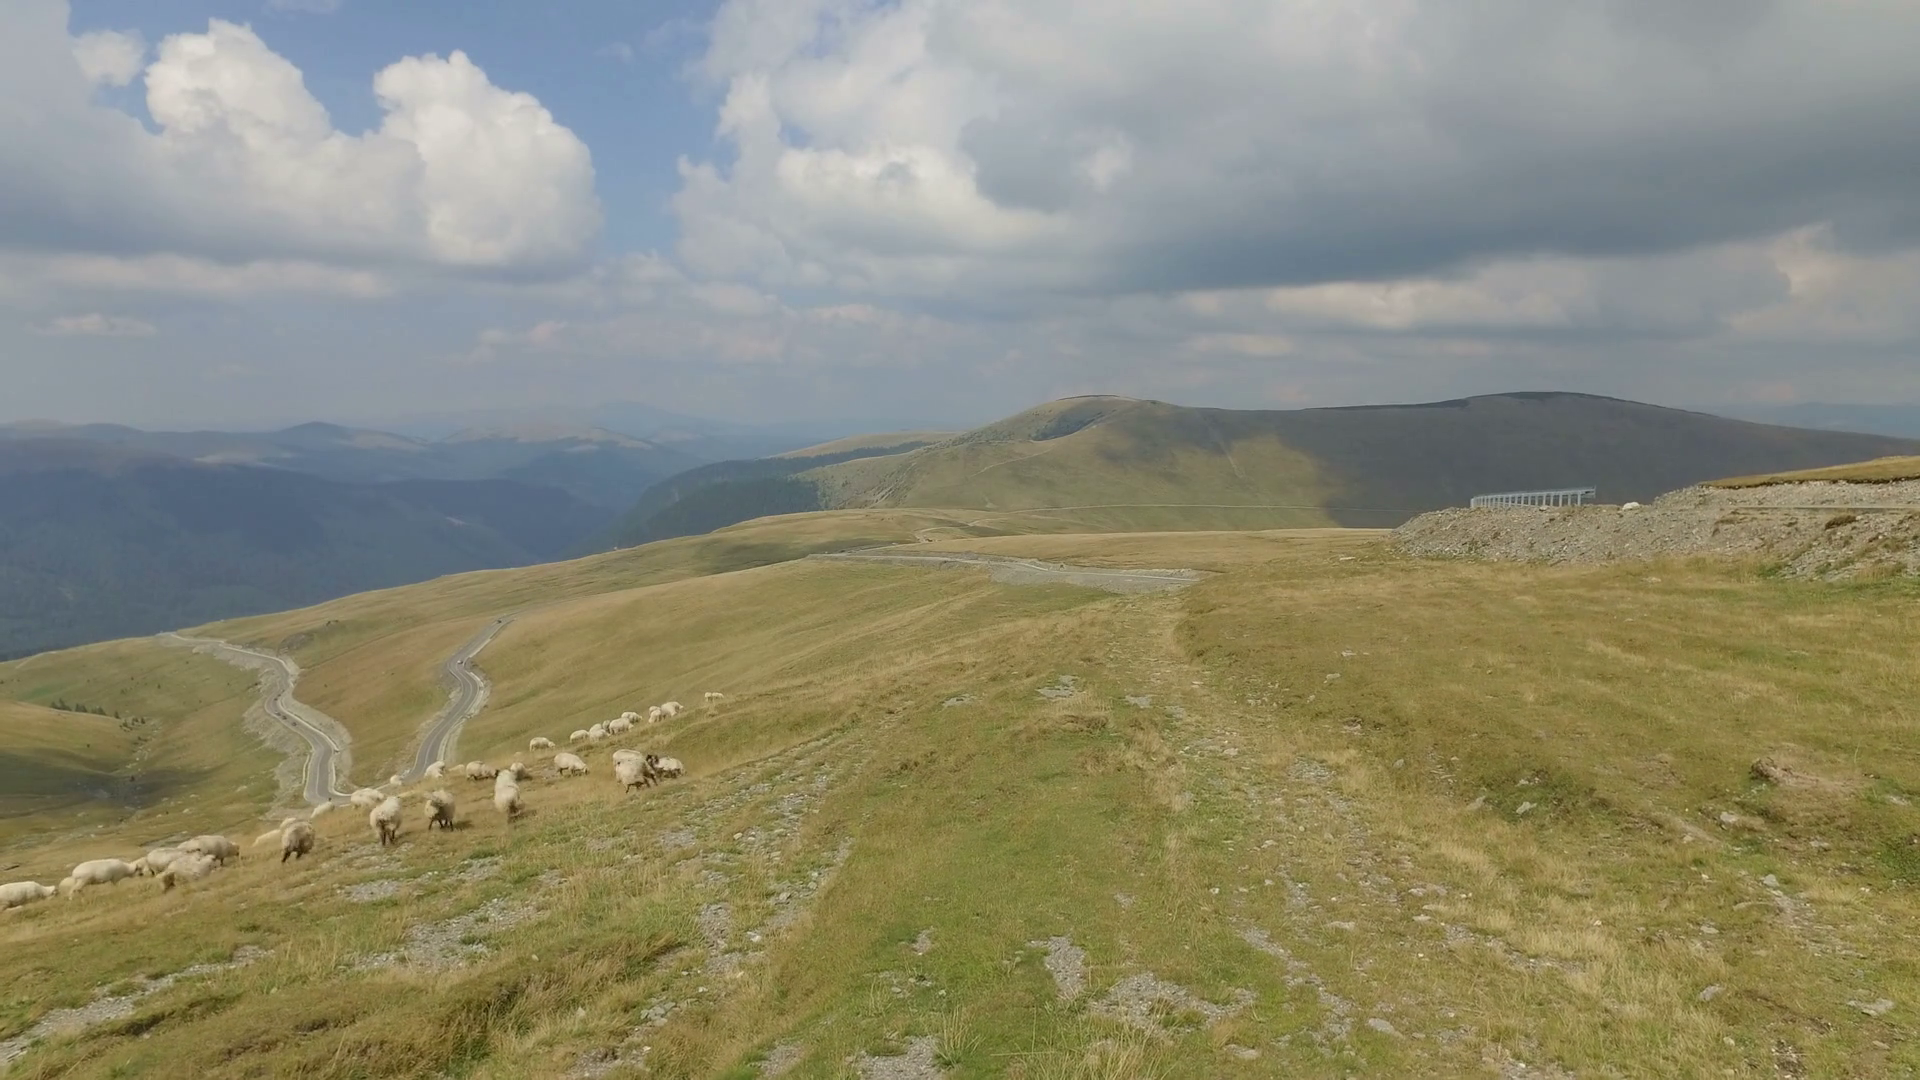sheep: (69, 858, 146, 901), (1, 880, 61, 916), (493, 767, 526, 825), (368, 793, 402, 847), (186, 833, 241, 866), (146, 845, 200, 877), (281, 822, 316, 866), (164, 855, 220, 882), (611, 748, 655, 781), (615, 758, 651, 793), (427, 790, 458, 829), (555, 754, 591, 775), (464, 758, 498, 779), (657, 757, 688, 779), (310, 798, 335, 825), (352, 791, 384, 808), (609, 716, 634, 735), (529, 735, 554, 752), (589, 727, 611, 742), (659, 700, 684, 713), (647, 708, 666, 723), (570, 729, 589, 742)
